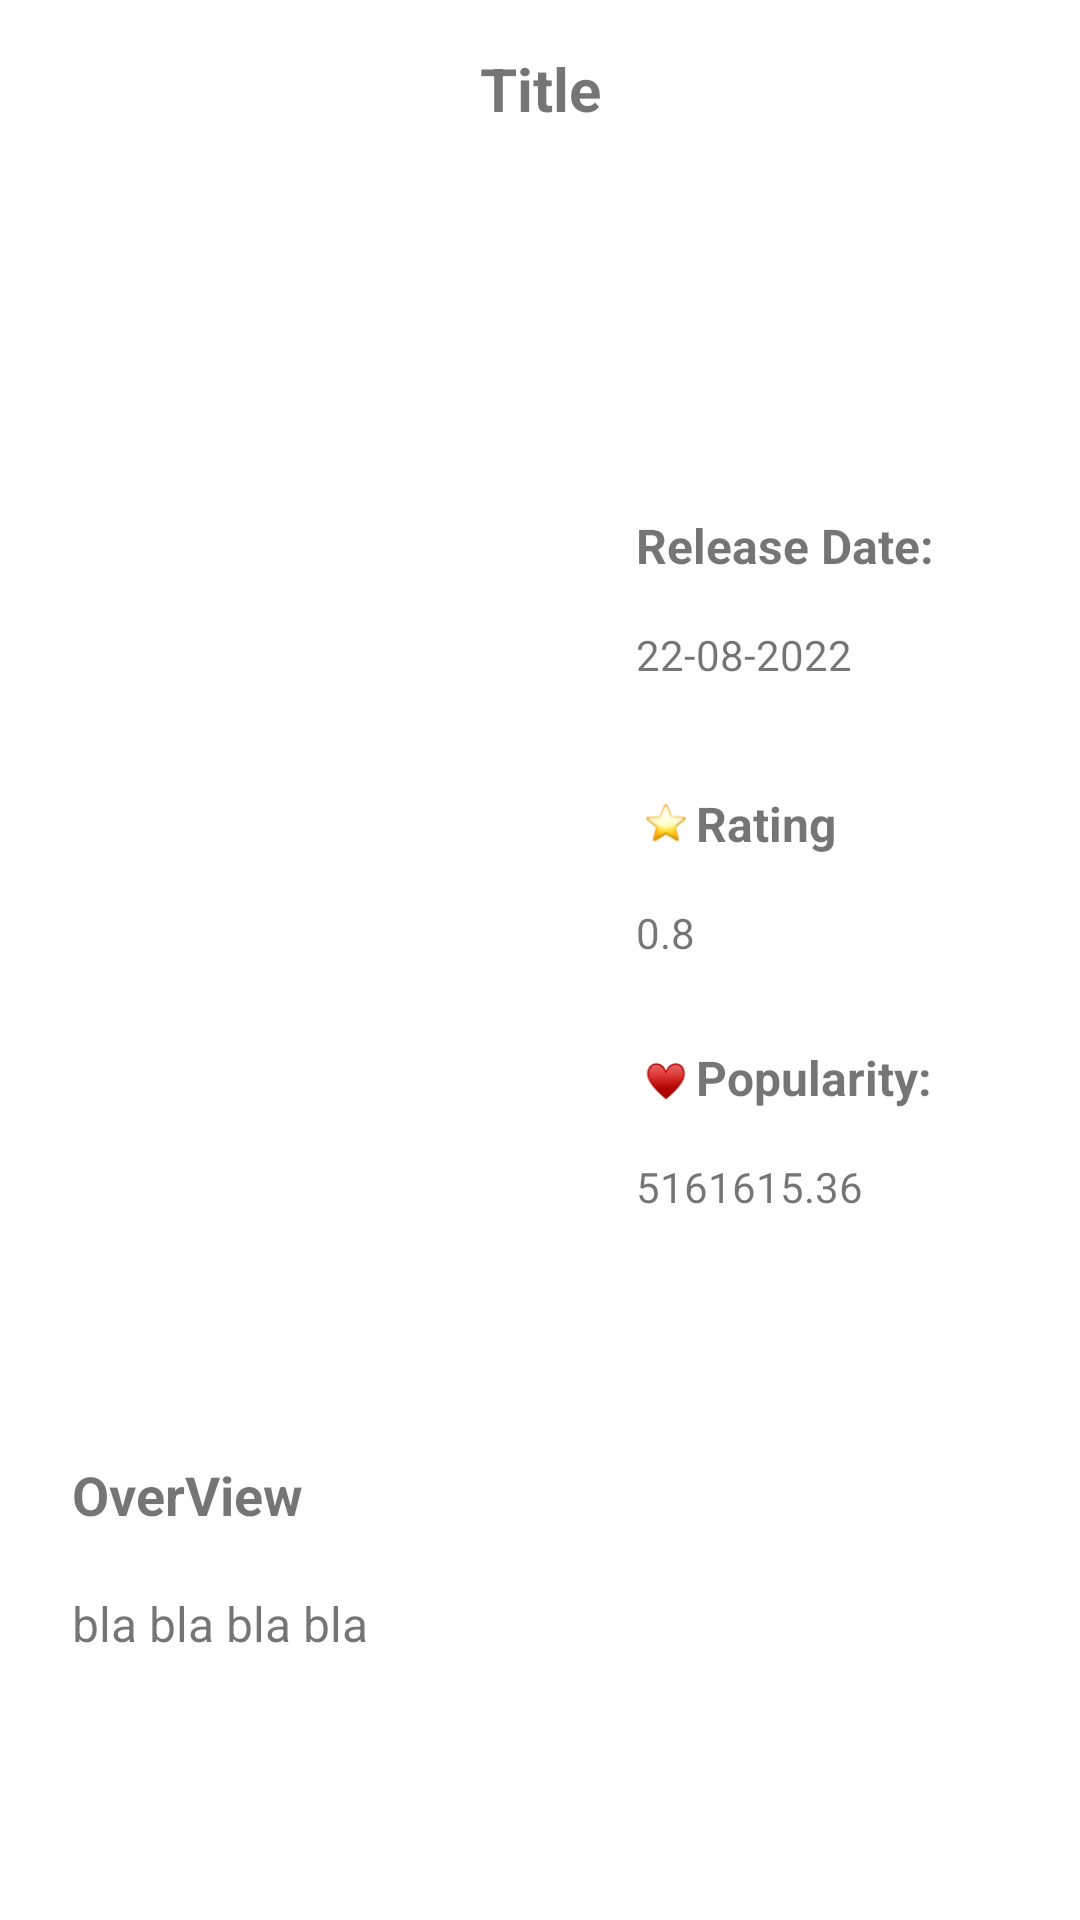

Where icons sit on this 1080px x 1920px app screen, as (x1,y1,x2,y2):
heart: (646,1063,686,1100)
star: (646,804,686,842)
